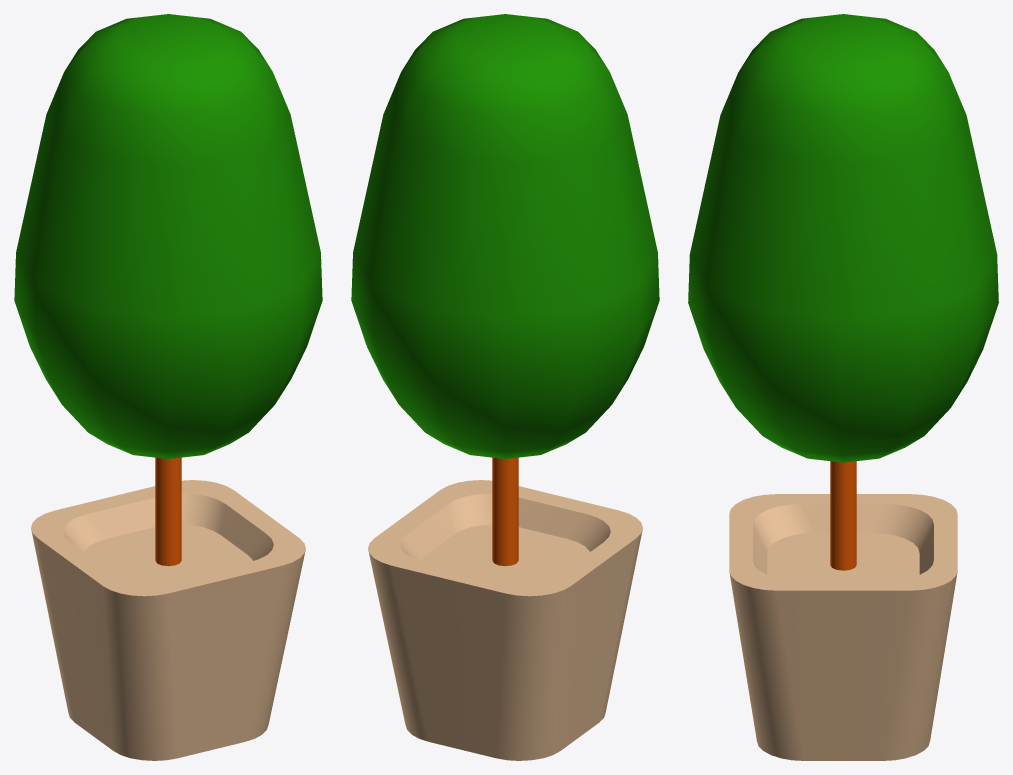
The picture shows the model from 3 angles, left to right: view 1: azimuth 30°, elevation 25°; view 2: azimuth 150°, elevation 25°; view 3: azimuth 270°, elevation 25°; orthographic projection.
Visible parts, largest first — view 1: TRAFFIC_FULL.008; view 2: TRAFFIC_FULL.008; view 3: TRAFFIC_FULL.008.
Part boxes in pixels (x1,y1,x2,y2): TRAFFIC_FULL.008: [14, 14, 322, 760]; TRAFFIC_FULL.008: [351, 14, 659, 760]; TRAFFIC_FULL.008: [688, 14, 998, 760].
Bounding box in the file's own units: 1.36 × 3.34 × 1.36.
